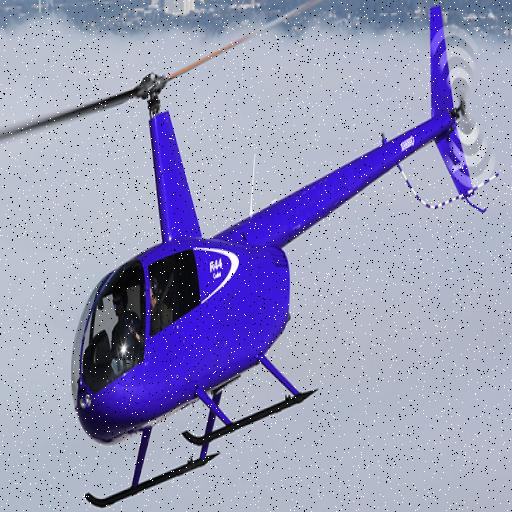helicopter: (64, 1, 505, 512)
